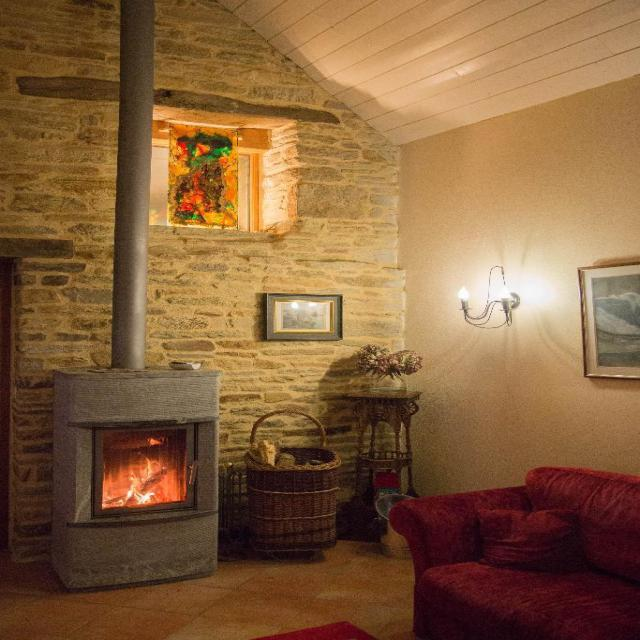Fire: (90, 426, 194, 510)
